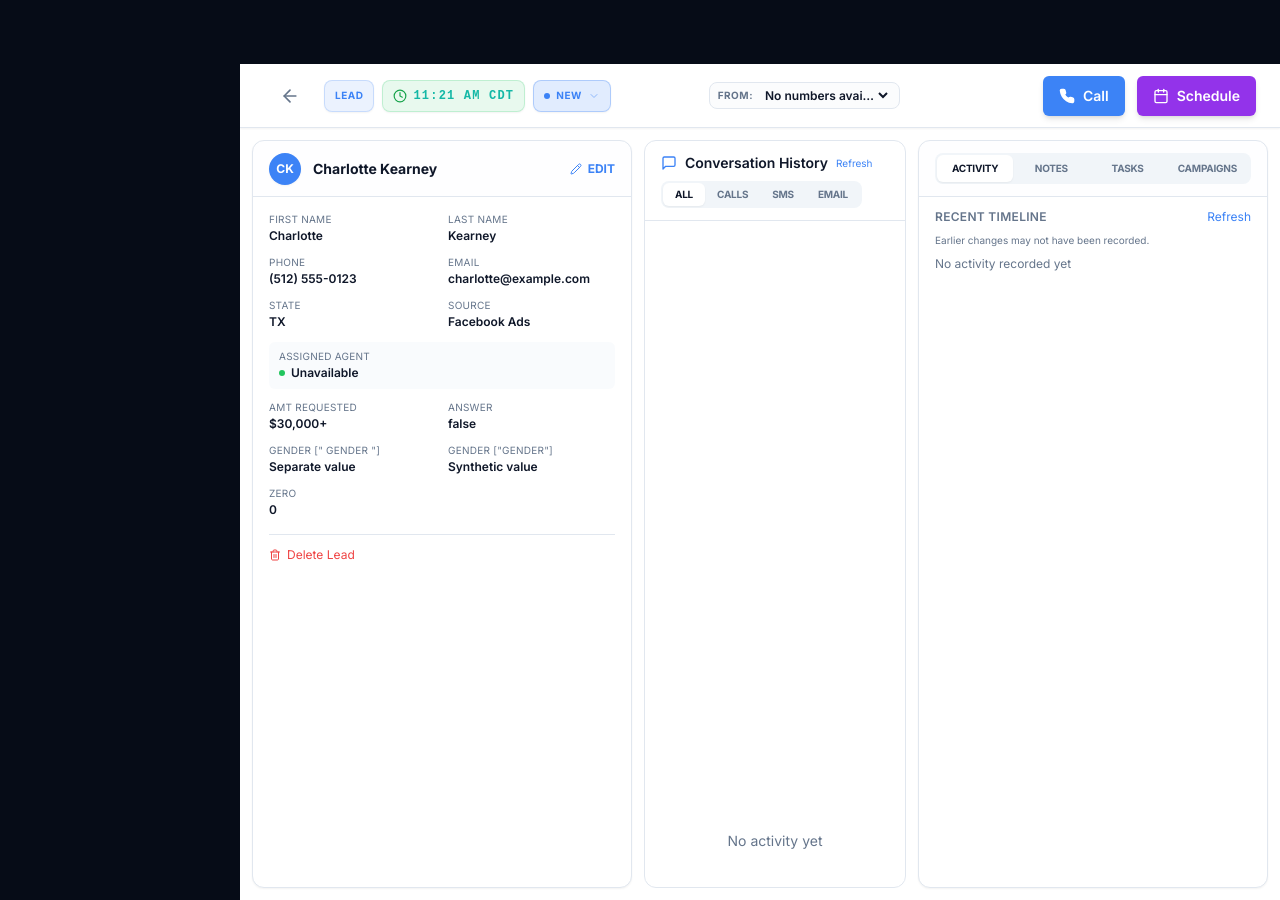
Test: direct lead link → real renderer and API preserve legacy custom values
The image size is (1280, 900).
Expected: the button "Call" is shown, [1043,76,1125,116]
Expected: the text "Synthetic value" is shown once, [448,458,538,475]
Click the button "EDIT".
click(592, 168)  # box [570,160,615,176]
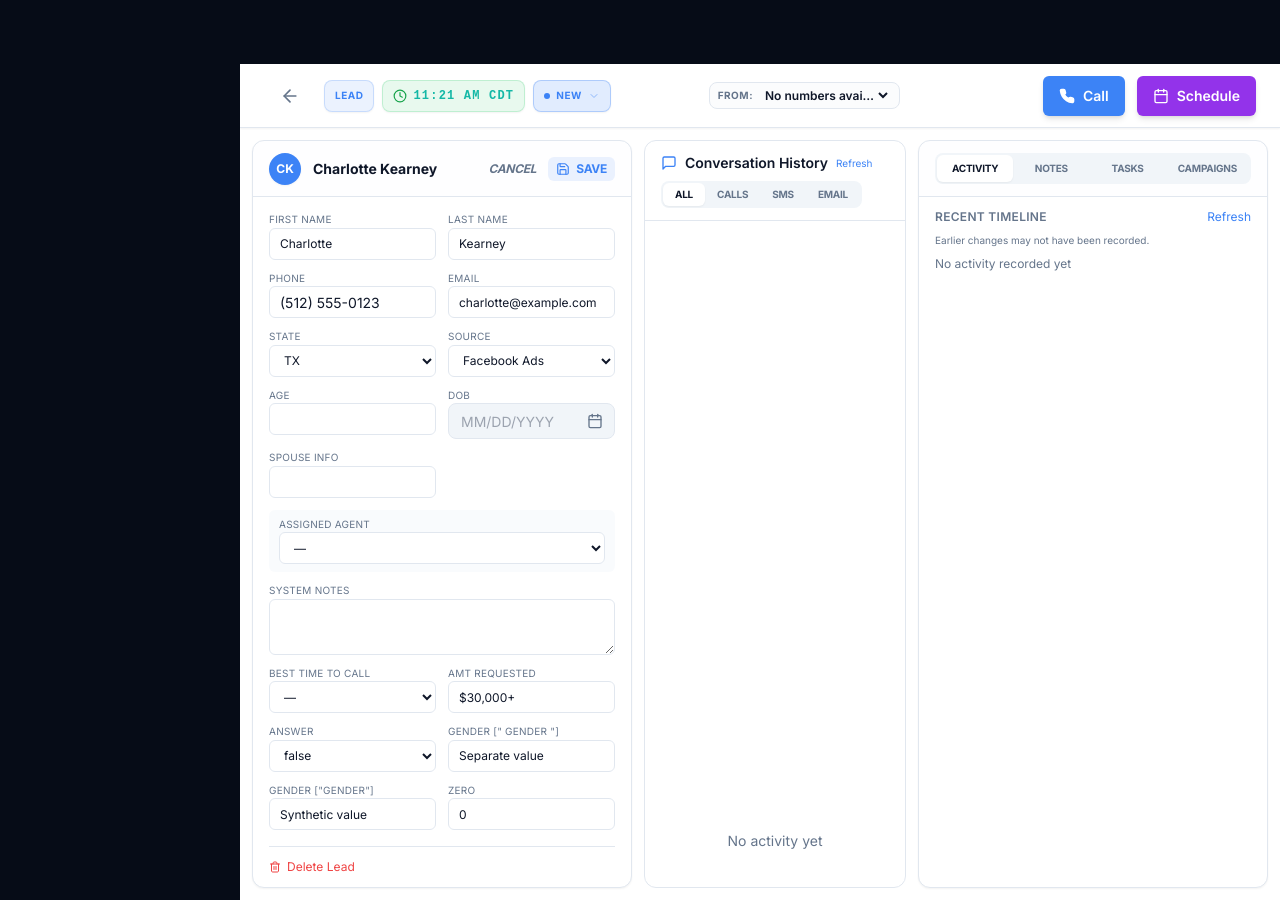
Replace the text in the field named "First Name" with "Updated fixture" at [352, 244], box [269,228,436,260]
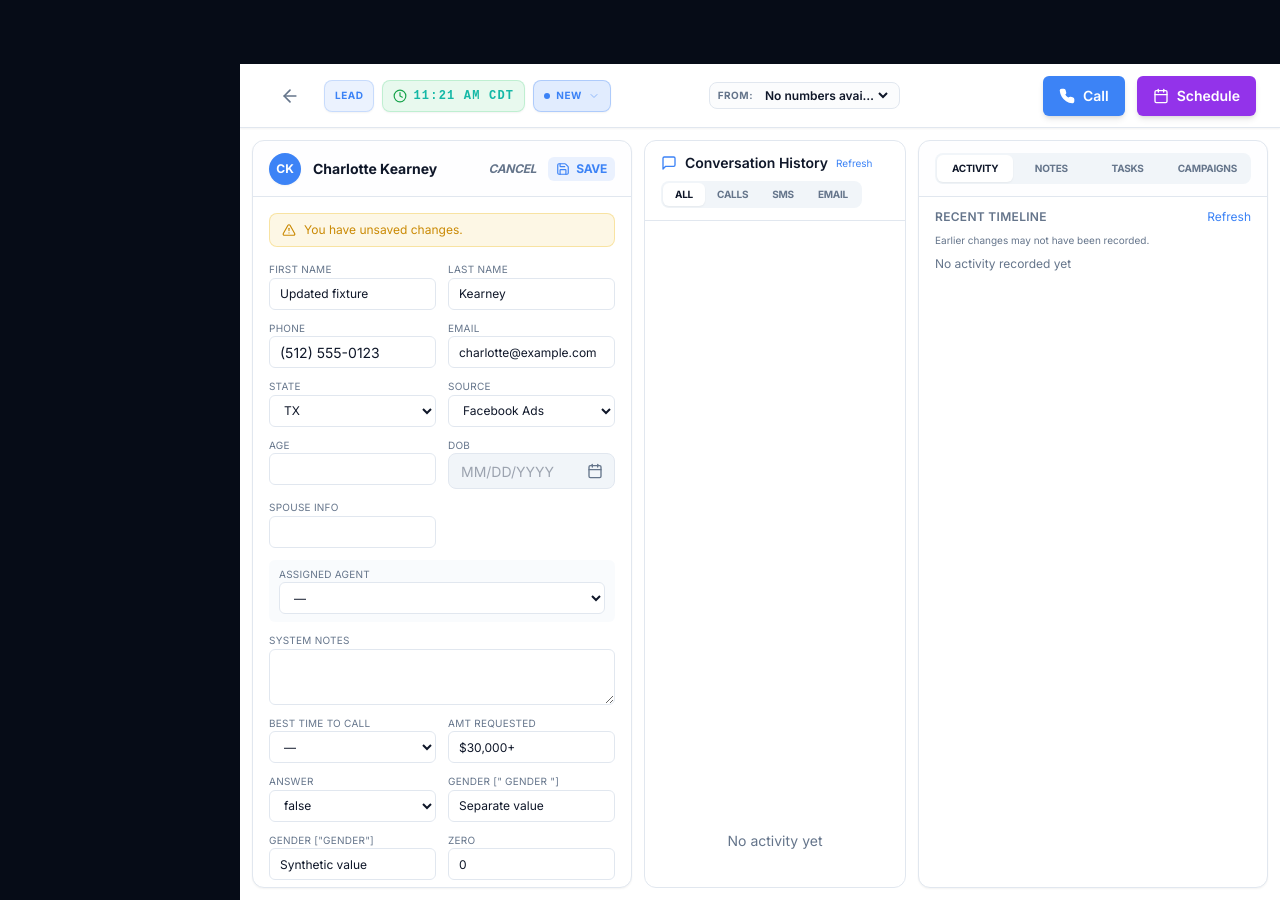
Click the button "SAVE".
click(582, 168)  # box [548,156,615,180]
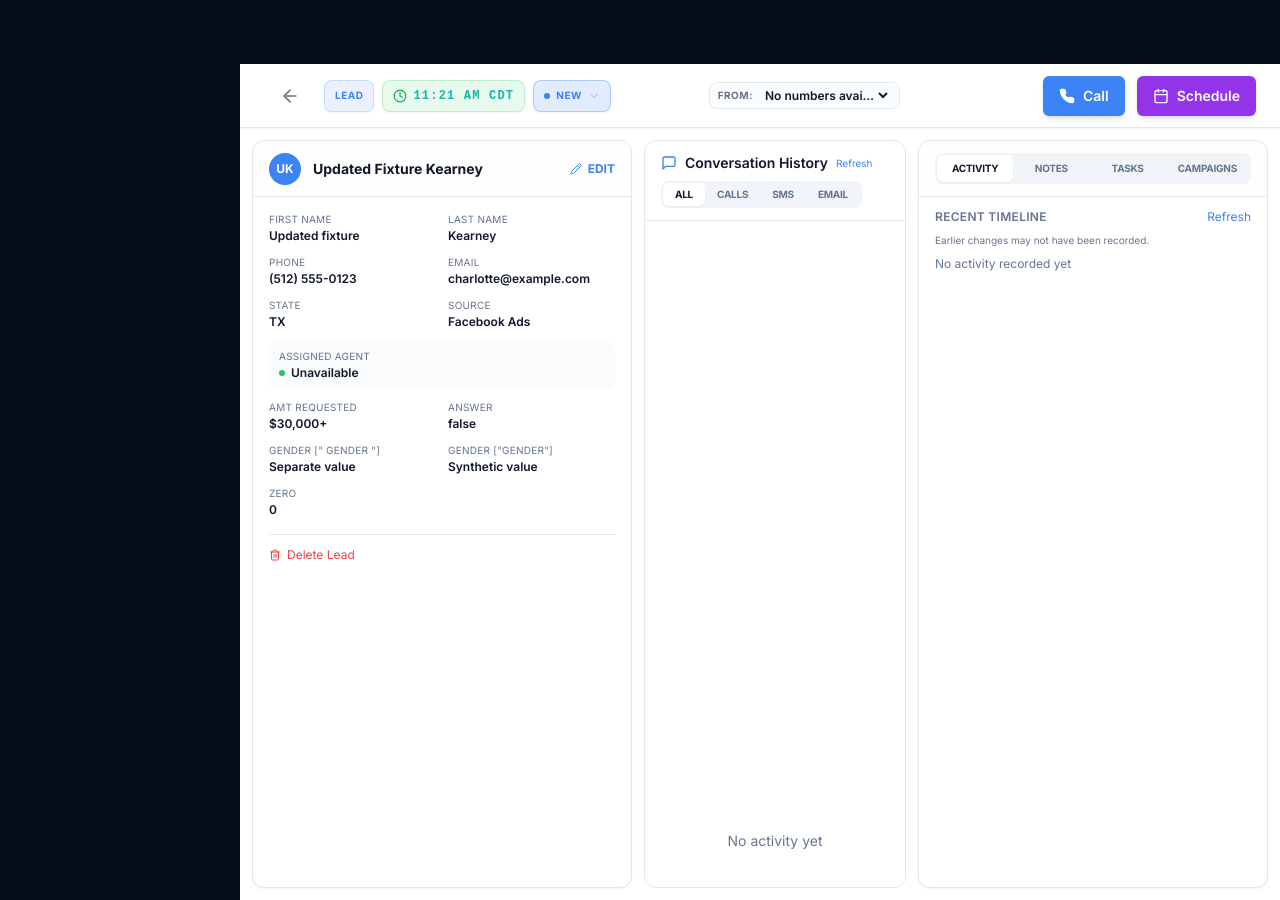
Now the button "SAVE" is gone
